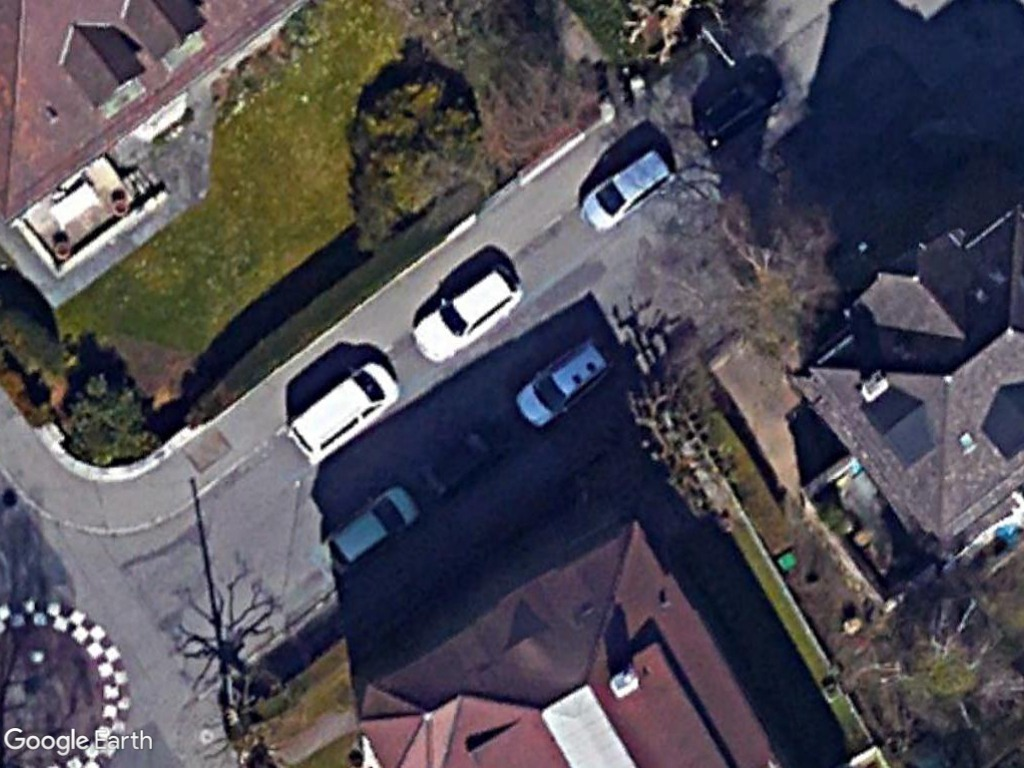car: (284, 358, 404, 467), (407, 262, 529, 369), (321, 482, 421, 578), (514, 338, 618, 430), (581, 148, 676, 233)
